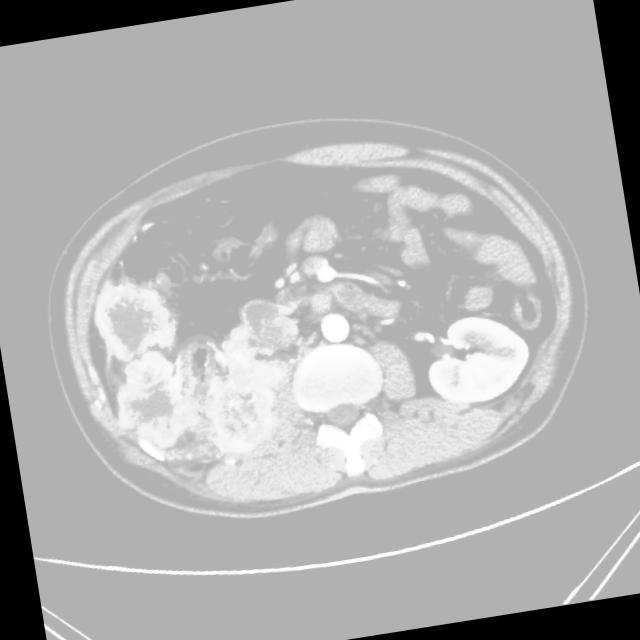TUMOR: (39, 152, 616, 534)
